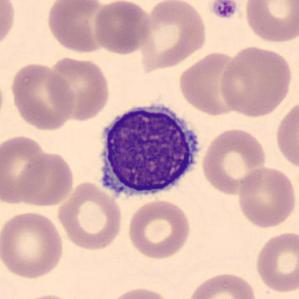Lymphocyte: (90, 96, 205, 204)
Platelets: (209, 0, 240, 20)
RBC: (218, 43, 294, 118), (137, 0, 209, 71), (55, 180, 125, 252), (200, 126, 269, 196), (8, 61, 76, 132), (0, 209, 66, 280), (45, 54, 112, 123), (177, 49, 244, 117), (125, 198, 193, 260), (235, 165, 298, 230), (44, 0, 113, 55), (0, 132, 51, 205), (16, 150, 76, 208), (92, 0, 153, 56), (253, 229, 298, 295), (242, 0, 298, 44), (185, 270, 259, 299), (273, 98, 298, 173), (0, 0, 17, 53), (107, 286, 175, 299), (16, 292, 80, 299), (0, 70, 6, 130)
